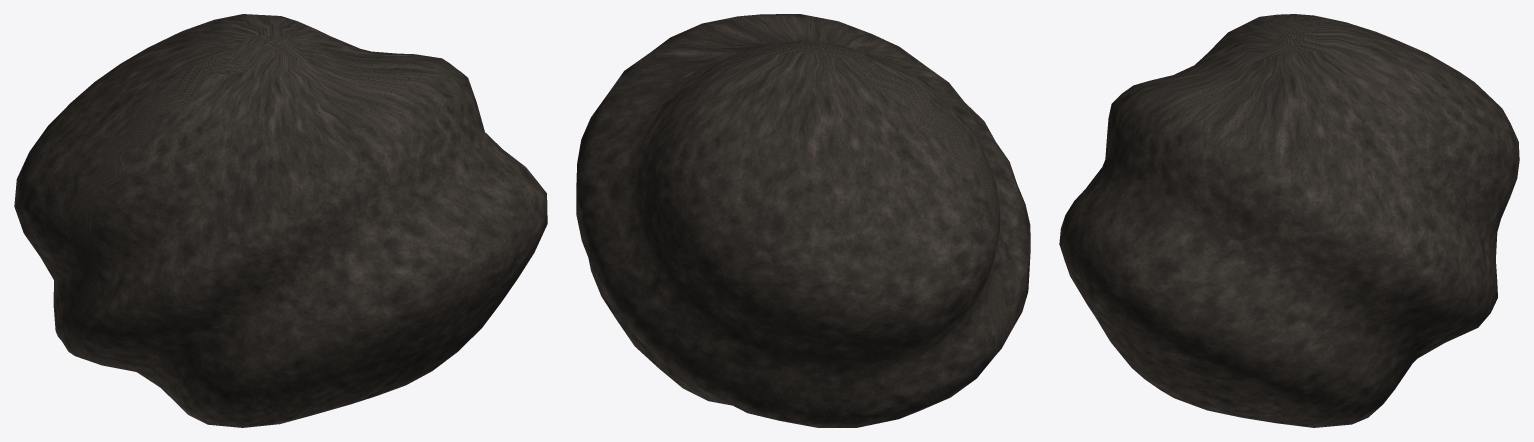
The model's file is obstacle_mid_8.dae.
3 views of the same model, side by side, from view 1: azimuth 30°, elevation 25°; view 2: azimuth 150°, elevation 25°; view 3: azimuth 270°, elevation 25° (orthographic).
Visible parts, largest first — view 1: obstacle_mid_8; view 2: obstacle_mid_8; view 3: obstacle_mid_8.
Part boxes in pixels (x1,y1,x2,y2): obstacle_mid_8: (14, 14, 547, 427); obstacle_mid_8: (576, 14, 1030, 427); obstacle_mid_8: (1059, 14, 1519, 427).
Size of the model in its own units: 1 by 0.909 by 0.7455.
Materials: 1 (1 with a texture image).
